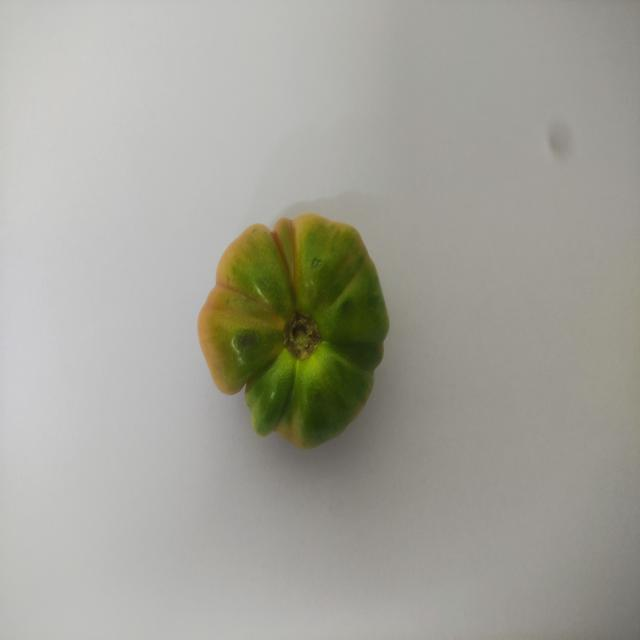yesil: (194, 208, 408, 454)
